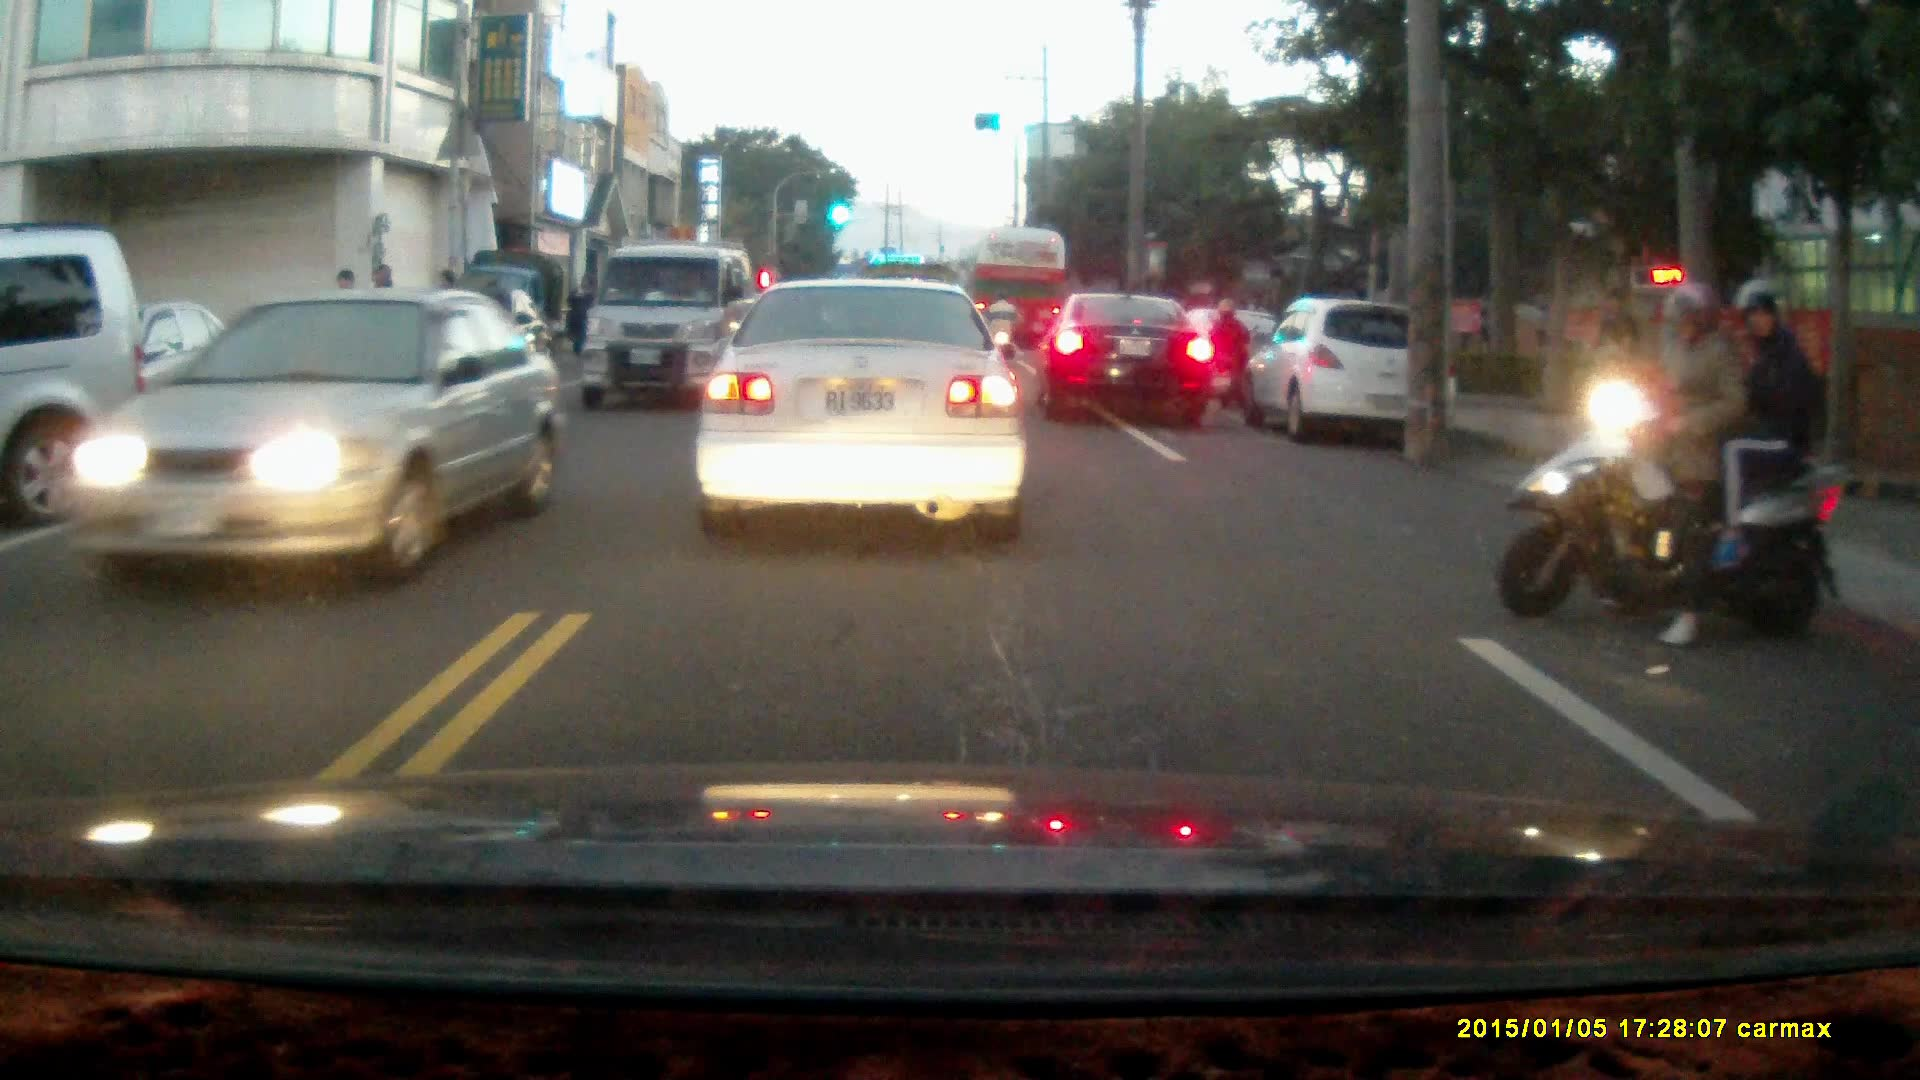pedestrian: (1593, 284, 1645, 410), (565, 273, 595, 361)
rider: (1499, 275, 1838, 653), (1204, 293, 1254, 408), (981, 289, 1020, 367)
vehicle: (65, 289, 549, 592), (692, 274, 1030, 546), (1, 226, 159, 520), (13, 299, 274, 468), (1243, 295, 1459, 441), (580, 241, 761, 411), (1036, 295, 1221, 429), (970, 224, 1072, 362)
